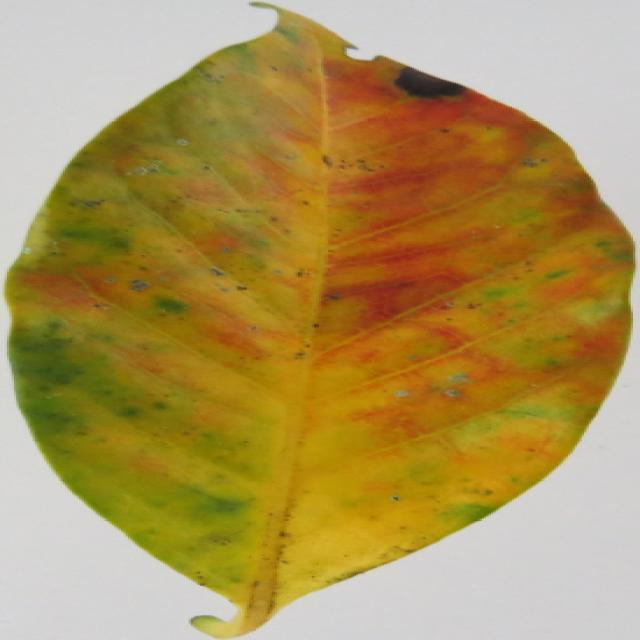DeficienciaNutricional-Fosforo: (8, 10, 627, 637)
